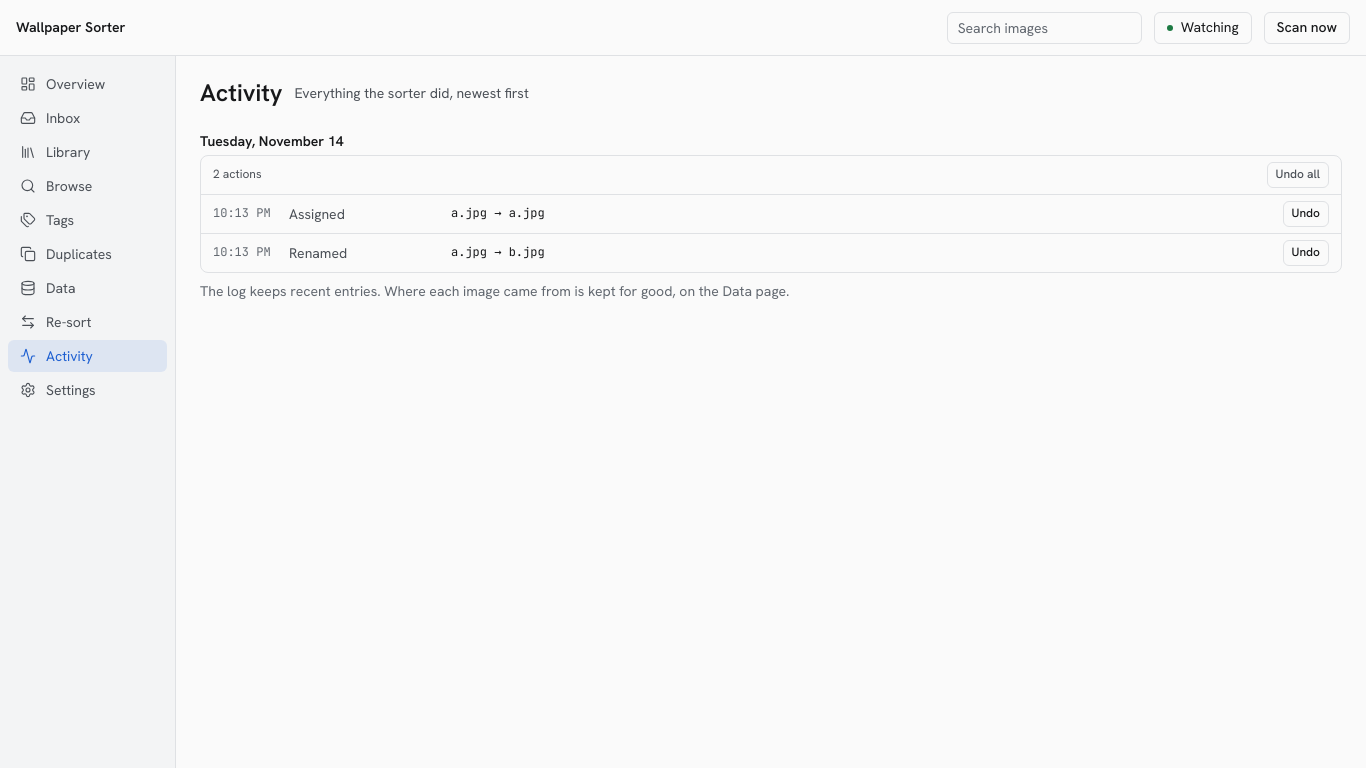
Test: groups activity batches and sends an undo-all mutation
This screenshot has width=1366, height=768.
Expected: the heading "Activity" is shown, [200, 76, 282, 111]
Expected: the text "2 actions" is shown, [213, 166, 262, 184]
Click the button "Undo all" at (1298, 175), box [1266, 162, 1329, 188]
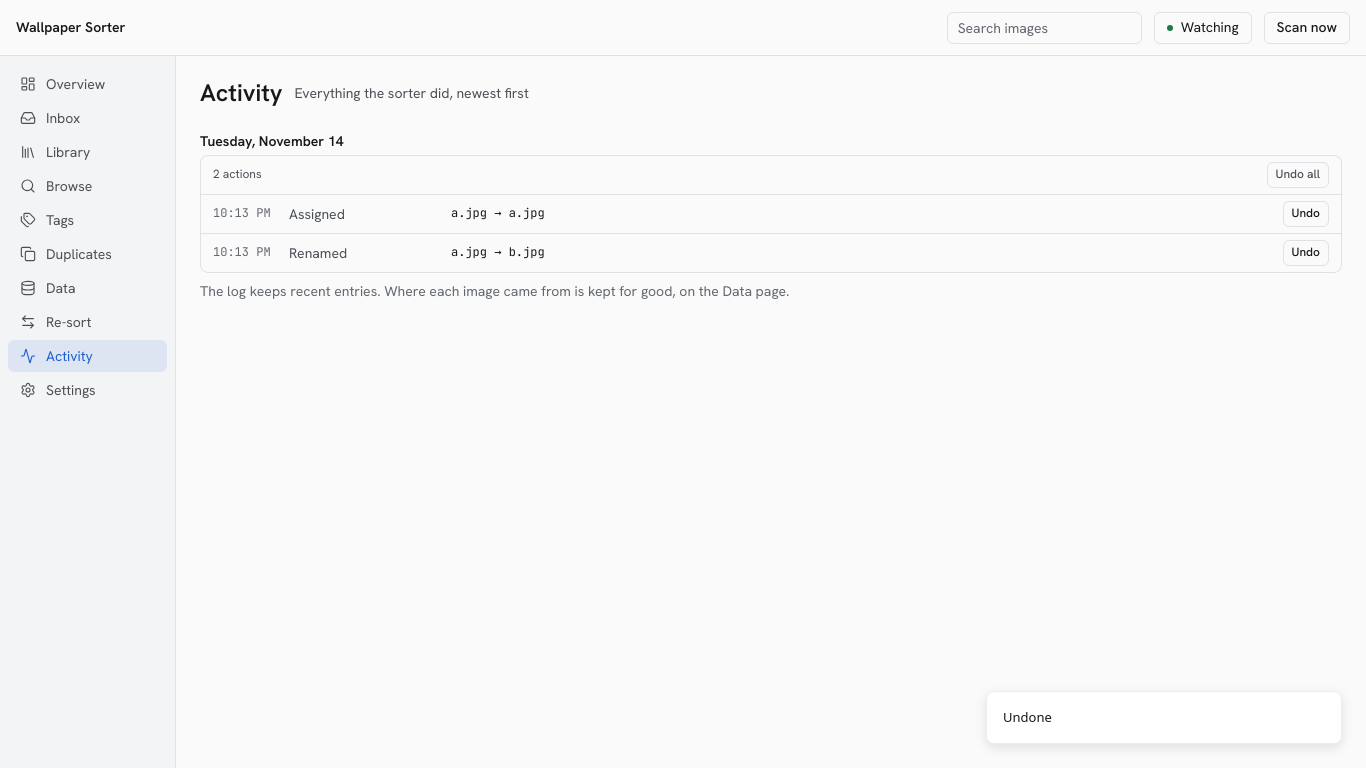
Expected: the text "Undone" is shown, [1003, 708, 1052, 727]
